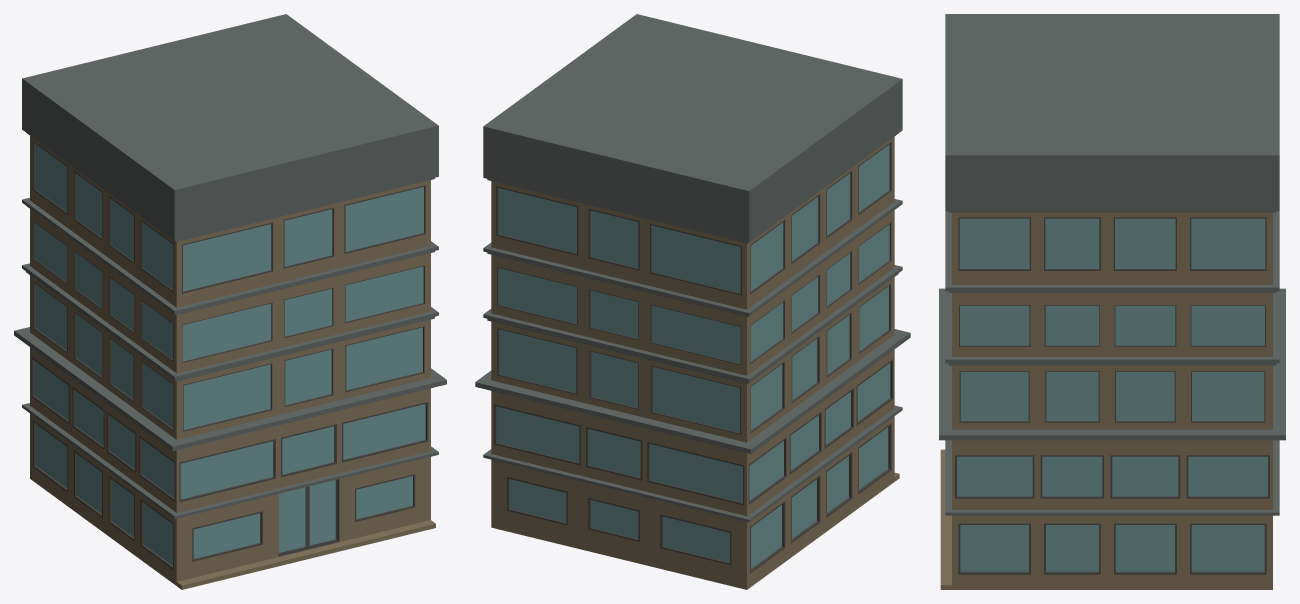
File: Skyscraper01.fbx
3 views of the same model, side by side, from view 1: azimuth 30°, elevation 25°; view 2: azimuth 150°, elevation 25°; view 3: azimuth 270°, elevation 25° (orthographic). The views are drawn at different scales.
Visible parts, largest first — view 1: Skyscraper; view 2: Skyscraper; view 3: Skyscraper.
Boxes of the visible parts, box(x1,y1,x2,y2) form: Skyscraper: box(14, 14, 446, 589); Skyscraper: box(475, 14, 910, 589); Skyscraper: box(939, 14, 1285, 589).
Bounding box in the file's own units: 216 × 301 × 216.
